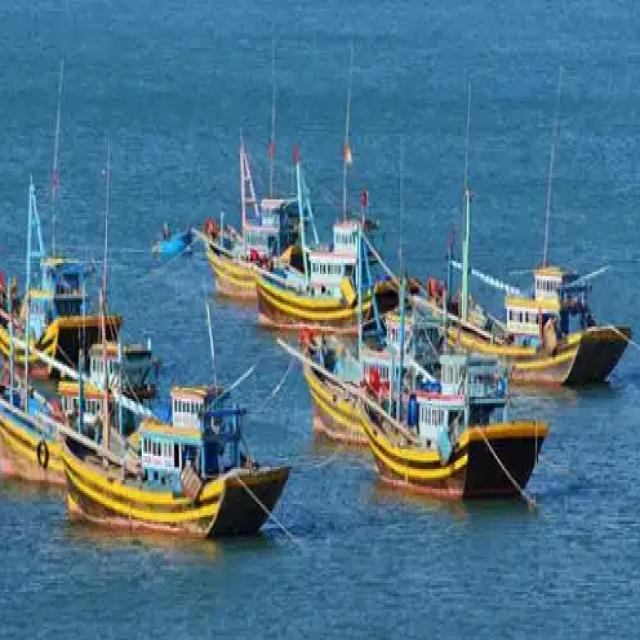fishing boat: (376, 214, 620, 389), (64, 365, 304, 541), (357, 302, 549, 510), (277, 301, 458, 442), (0, 209, 125, 375), (203, 112, 316, 294), (252, 198, 394, 328), (0, 348, 124, 496), (56, 320, 157, 424)
